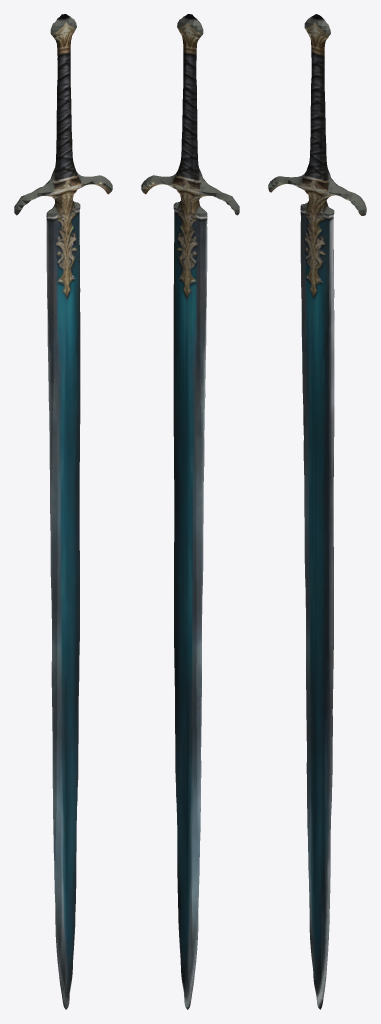
File: sword1.glb
3 views of the same model, side by side, from view 1: azimuth 30°, elevation 25°; view 2: azimuth 150°, elevation 25°; view 3: azimuth 330°, elevation 25° (orthographic).
Parts seen in each view (by area): view 1: Grid; view 2: Grid; view 3: Grid.
Boxes of the visible parts, left/top/right/bottom form: Grid: left=14, top=14, right=112, bottom=1009; Grid: left=141, top=14, right=239, bottom=1009; Grid: left=268, top=14, right=366, bottom=1009.
Bounding box in the file's own units: 0.3925 × 3.81 × 0.0589.
Materials: 1 (1 with a texture image).
